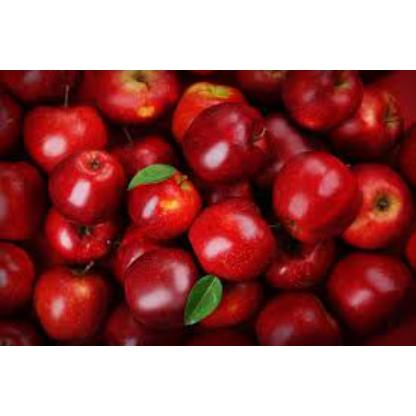apple: (192, 192, 280, 282), (34, 266, 108, 343), (290, 152, 350, 240), (193, 113, 261, 185), (344, 248, 402, 326), (136, 250, 192, 324), (288, 69, 358, 127), (25, 100, 100, 154), (57, 161, 123, 221), (38, 212, 116, 260), (92, 72, 168, 114), (2, 155, 40, 239), (197, 282, 268, 326), (262, 297, 328, 343), (0, 244, 37, 313), (132, 183, 186, 228), (268, 114, 308, 172), (115, 125, 170, 167), (181, 82, 244, 118), (362, 174, 402, 230), (364, 85, 394, 151), (8, 72, 82, 96), (289, 249, 331, 288), (218, 178, 260, 209), (181, 326, 253, 344), (240, 72, 296, 90)
